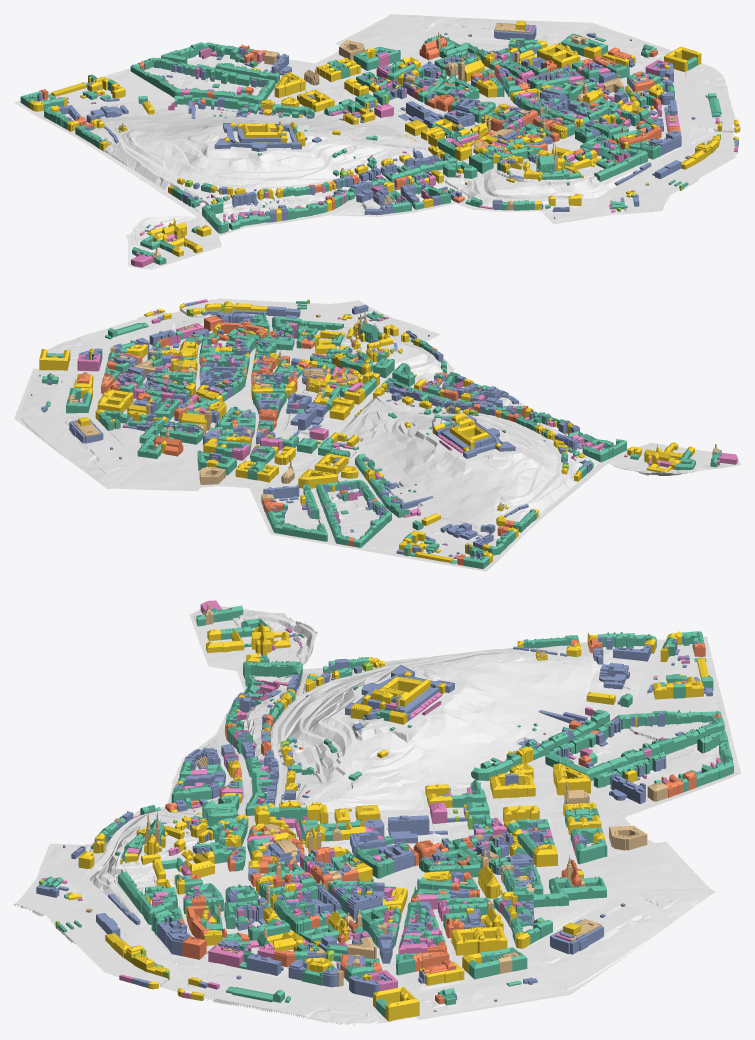
Rendered from temathic_model_draco.glb.
3 views of the same model, one above another, from view 1: azimuth 30°, elevation 25°; view 2: azimuth 150°, elevation 25°; view 3: azimuth 270°, elevation 25° (orthographic). The views are drawn at different scales.
Visible parts, largest first — view 1: buildings, low_poly_material_copy; view 2: buildings, low_poly_material_copy; view 3: buildings, low_poly_material_copy.
Part boxes in pixels (x1=…): buildings: x1=20, y1=20, x2=740, y2=267; low_poly_material_copy: x1=14, y1=14, x2=740, y2=269; buildings: x1=31, y1=299, x2=737, y2=569; low_poly_material_copy: x1=14, y1=298, x2=740, y2=571; buildings: x1=36, y1=600, x2=733, y2=1021; low_poly_material_copy: x1=14, y1=606, x2=740, y2=1025.
Size of the model in its own units: 1805 by 125 by 1325.
Materials: 2 (1 with a texture image).
